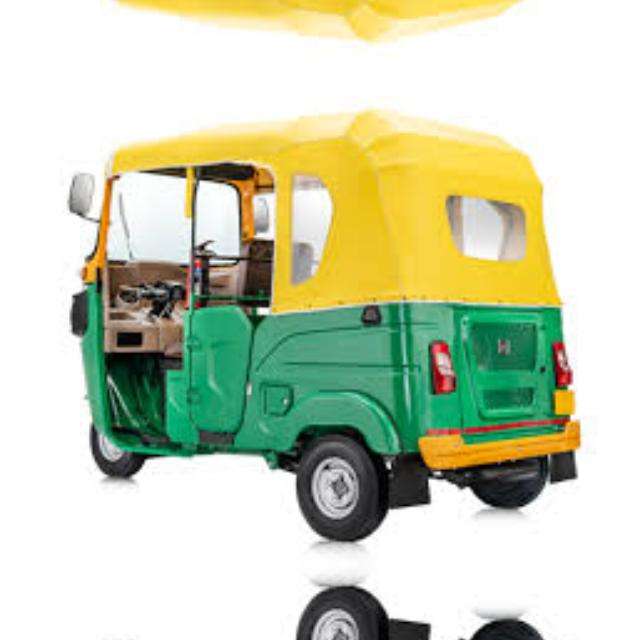person: (54, 96, 586, 542), (54, 585, 586, 640), (54, 0, 586, 54)
